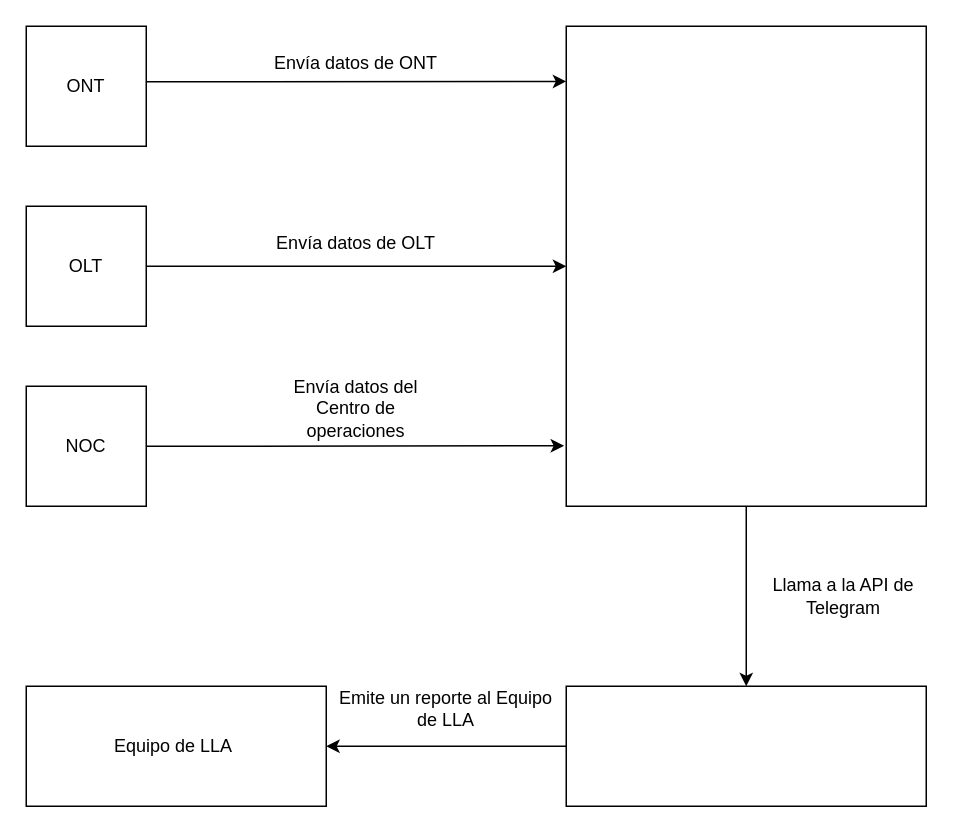
The diagram is 968 pixels wide and 833 high, and some of its shapes have lost their labels. The shapes that lost their labels are listed below. From the top down, each one's centre as x and y in pixels, then its label:
At (745,265): "Sistema Modelo Predictivo FTTH".
At (745,745): "Bot de Telegram".
